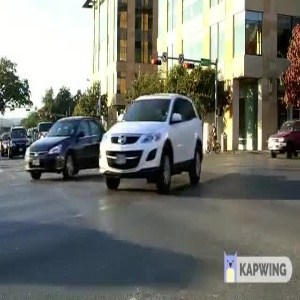car: (20, 118, 108, 179)
suv: (91, 89, 209, 196), (259, 113, 300, 159)
